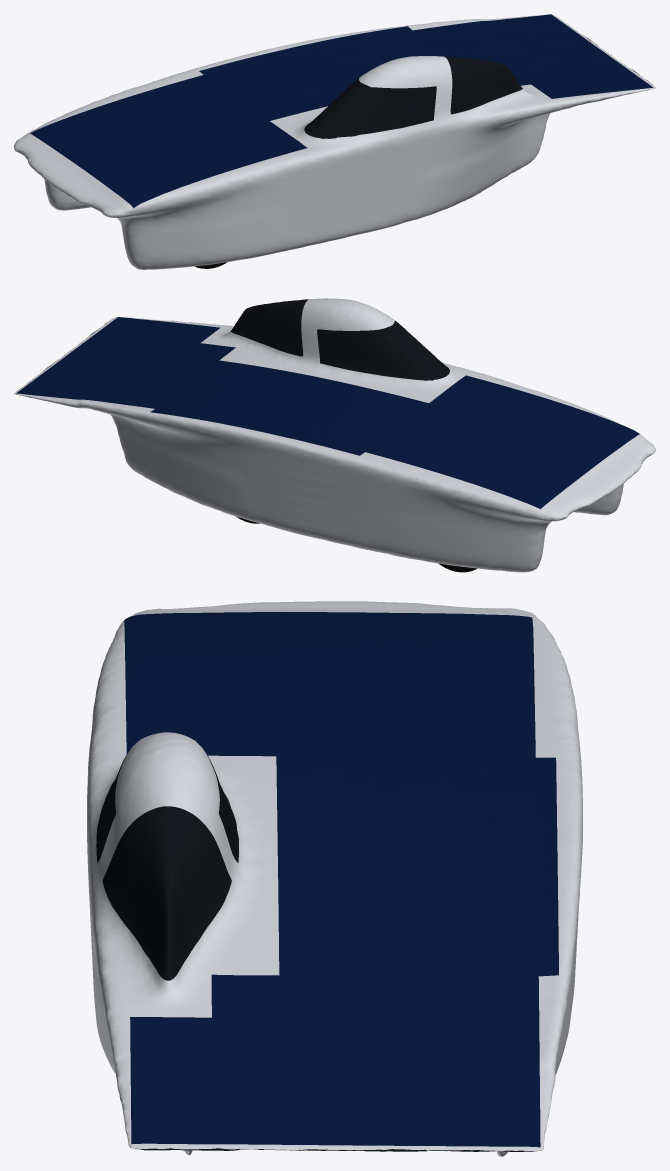
File: carrera.glb
3 renders of one model, top to bottom at view 1: azimuth 30°, elevation 25°; view 2: azimuth 150°, elevation 25°; view 3: azimuth 270°, elevation 25°, orthographic. The views are drawn at different scales.
Parts seen in each view (by area): view 1: Body, SolarCells, Glass; view 2: Body, SolarCells, Glass; view 3: SolarCells, Body, Glass.
Boxes of the visible parts, <box> form: Body: <box>14,14,655,269</box>; SolarCells: <box>30,14,652,208</box>; Glass: <box>304,56,522,138</box>; Body: <box>14,298,655,572</box>; SolarCells: <box>16,317,639,508</box>; Glass: <box>230,299,449,380</box>; SolarCells: <box>124,612,558,1147</box>; Body: <box>87,601,582,1156</box>; Glass: <box>96,745,238,980</box>.
Bounding box in the file's own units: 4.82 × 1.31 × 1.87.
